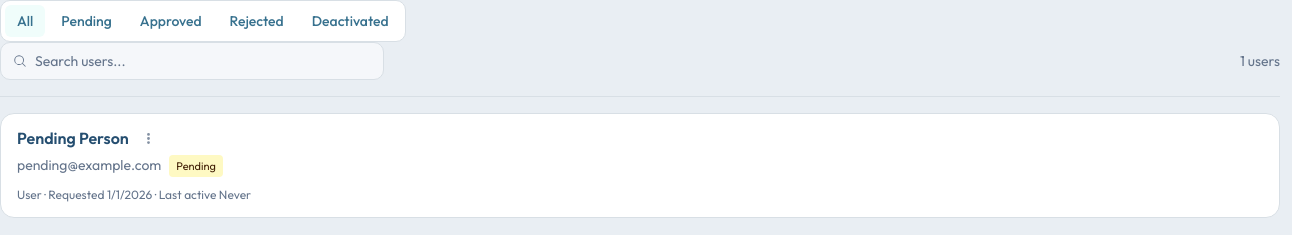
Test case: UsersPage › shows Approve/Reject for a pending user's menu, but not Remove user
Press the mouse on the button named "Actions for Pending Person" at (149, 138), box [137,126,161,150]
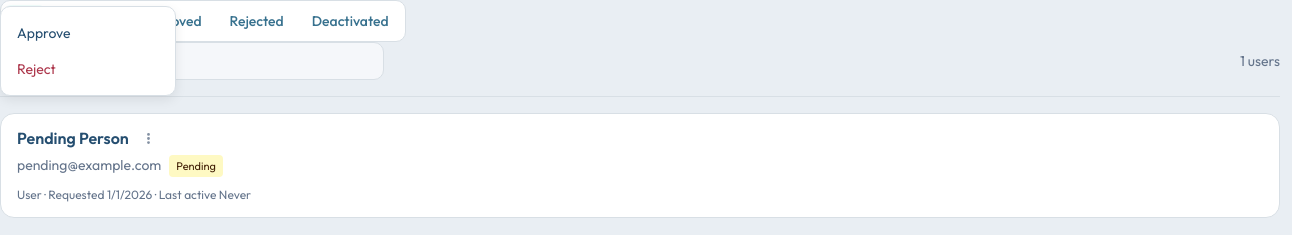
Check: the menu is shown, box [0,6,176,96]
Check: the menu item "Approve" is shown, box [17,24,70,42]
Check: the menu item "Reject" is shown, box [17,60,56,78]
